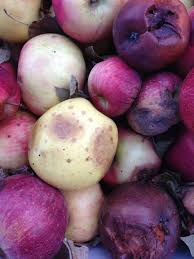damaged_apple: (29, 103, 130, 185), (101, 184, 182, 258), (6, 174, 75, 257), (114, 3, 193, 62), (125, 68, 188, 130), (86, 56, 142, 114)
